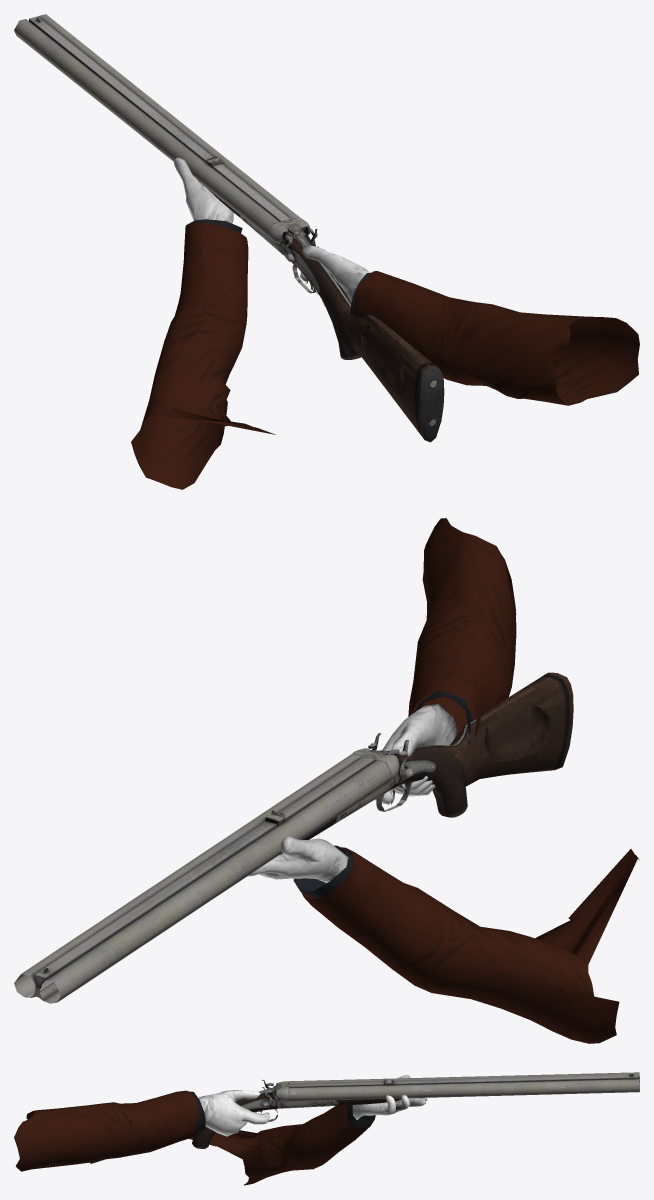
The model's file is frame_12.obj.
3 views of the same model, one above another, from view 1: azimuth 30°, elevation 25°; view 2: azimuth 150°, elevation 25°; view 3: azimuth 270°, elevation 25° (orthographic). The views are drawn at different scales.
Parts seen in each view (by area): view 1: PlayerModelMerged.001_PlayerModelMerged, double_-_barreled_shotgun_L_double_-_barreled_shotgun_LP_к.001; view 2: PlayerModelMerged.001_PlayerModelMerged, double_-_barreled_shotgun_L_double_-_barreled_shotgun_LP_к.001; view 3: PlayerModelMerged.001_PlayerModelMerged, double_-_barreled_shotgun_L_double_-_barreled_shotgun_LP_к.001.
Part boxes in pixels (x1=…): PlayerModelMerged.001_PlayerModelMerged: x1=131, y1=157, x2=639, y2=489; double_-_barreled_shotgun_L_double_-_barreled_shotgun_LP_к.001: x1=14, y1=14, x2=444, y2=442; PlayerModelMerged.001_PlayerModelMerged: x1=247, y1=518, x2=639, y2=1043; double_-_barreled_shotgun_L_double_-_barreled_shotgun_LP_к.001: x1=14, y1=672, x2=573, y2=1003; PlayerModelMerged.001_PlayerModelMerged: x1=14, y1=1075, x2=427, y2=1185; double_-_barreled_shotgun_L_double_-_barreled_shotgun_LP_к.001: x1=90, y1=1072, x2=639, y2=1163.
Bounding box in the file's own units: 0.8331 × 0.5548 × 2.
